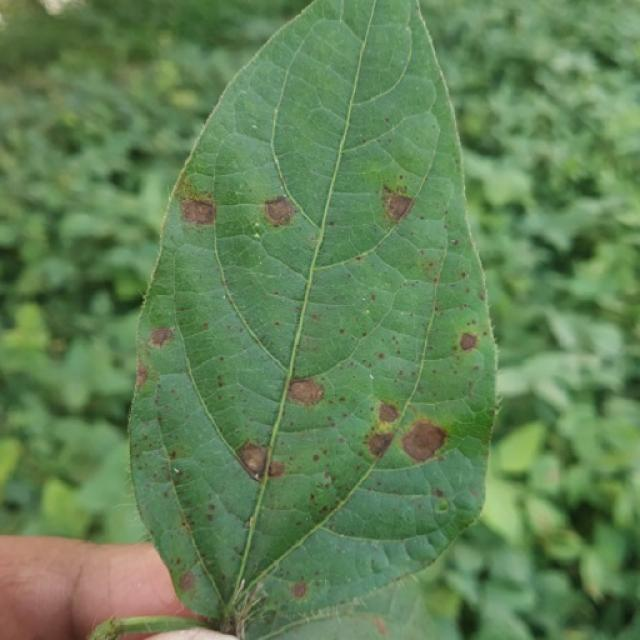Anthracnose: (372, 172, 426, 240), (137, 324, 176, 395), (365, 399, 405, 460), (224, 578, 264, 637), (398, 417, 448, 464), (237, 439, 287, 478), (380, 185, 415, 223), (172, 175, 213, 207), (285, 376, 326, 407), (180, 196, 217, 226), (263, 195, 297, 226), (148, 326, 173, 348), (377, 402, 399, 424), (457, 331, 478, 351), (178, 570, 196, 593), (135, 364, 149, 389), (290, 580, 308, 599), (436, 499, 449, 512), (251, 224, 263, 238)
Blackgram: (80, 0, 496, 639)
